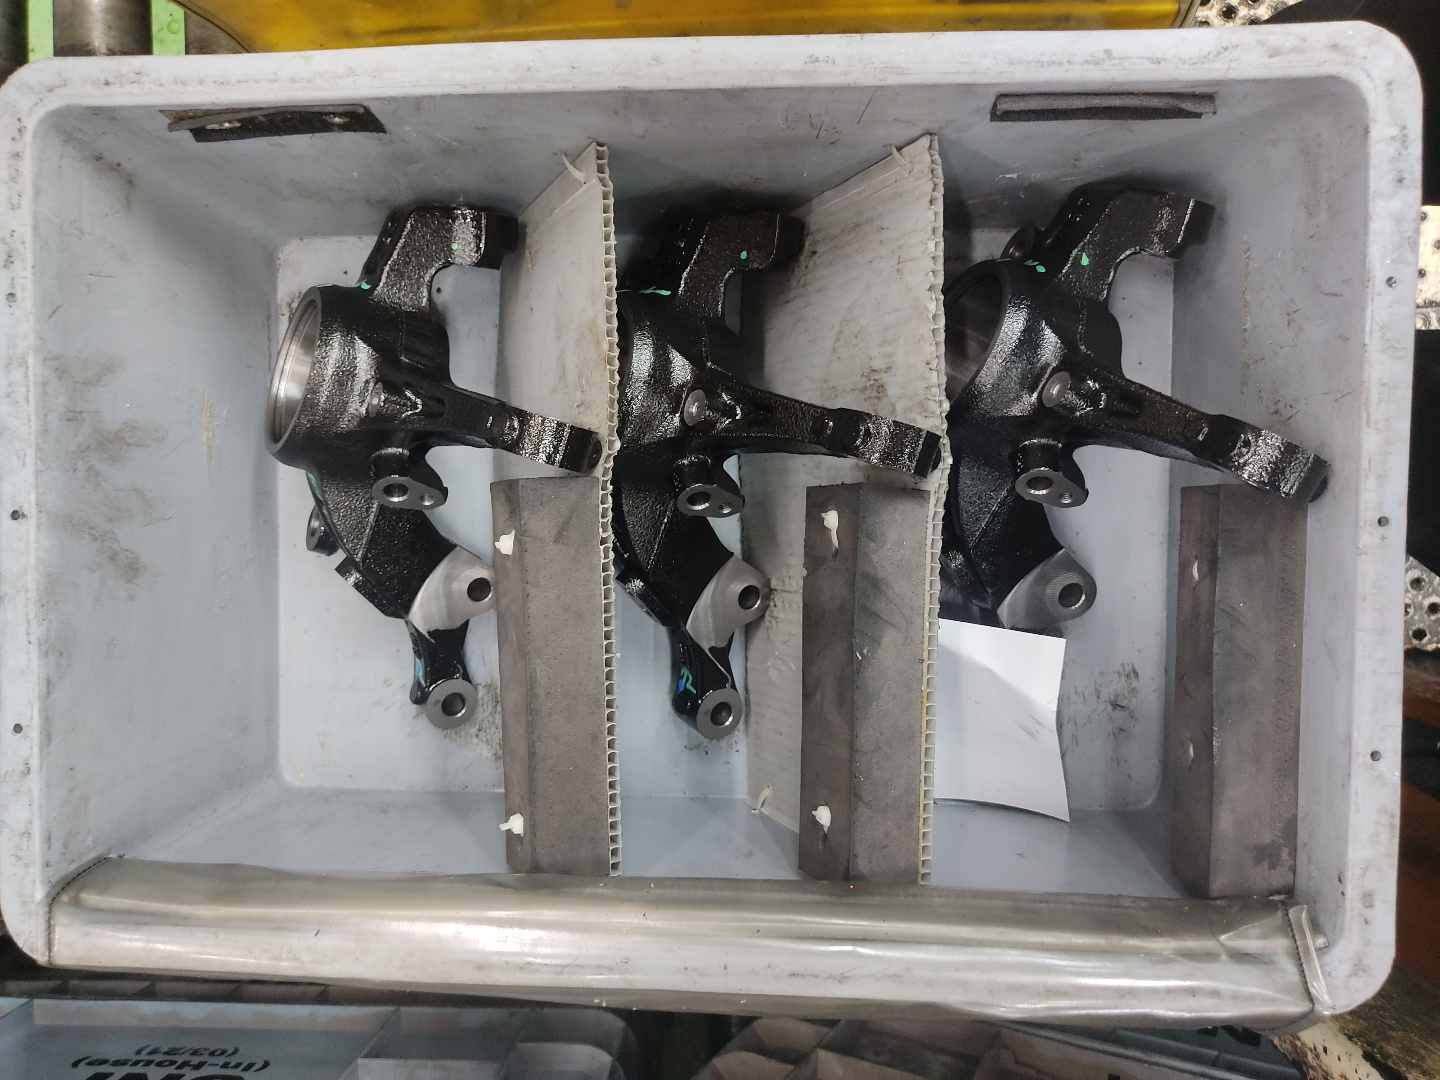abs-rh: (937, 161, 1336, 704), (253, 184, 611, 736), (611, 205, 943, 752)
